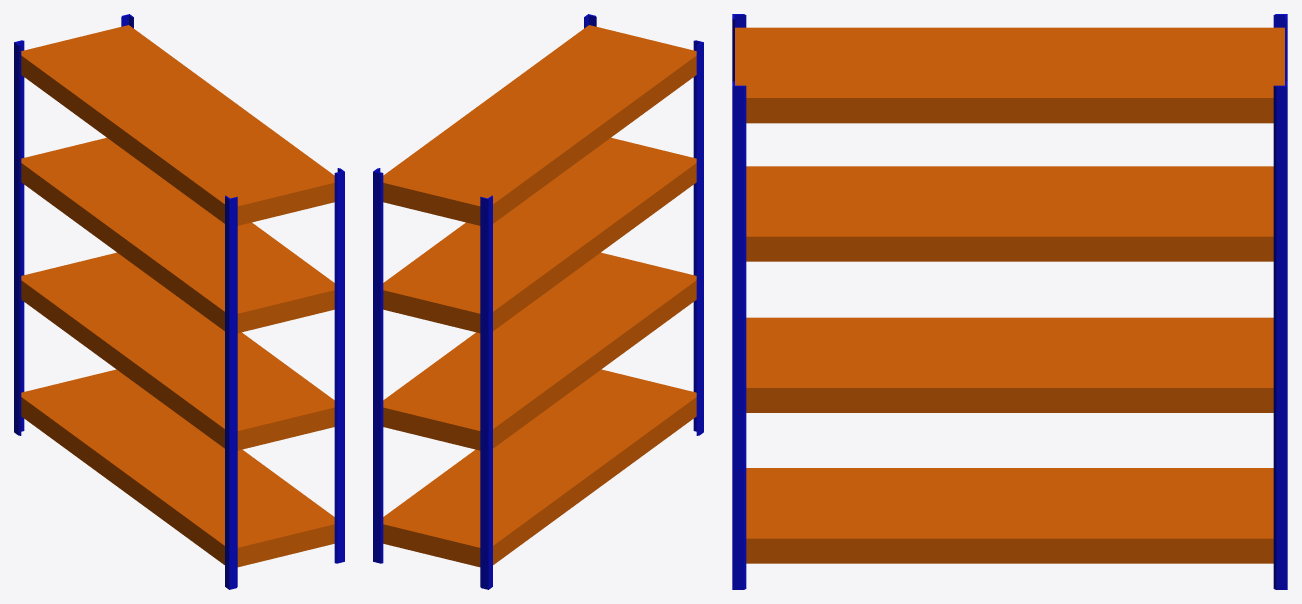
Rendered from rack.fbx.
The picture shows the model from 3 angles, left to right: view 1: azimuth 30°, elevation 25°; view 2: azimuth 150°, elevation 25°; view 3: azimuth 270°, elevation 25°; orthographic projection. The views are drawn at different scales.
Parts seen in each view (by area): view 1: rack; view 2: rack; view 3: rack.
Part boxes in pixels (x1,y1,x2,y2): rack: (14, 14, 344, 589); rack: (373, 14, 703, 589); rack: (732, 14, 1287, 589).
Bounding box in the file's own units: 61.92 × 200 × 200.
